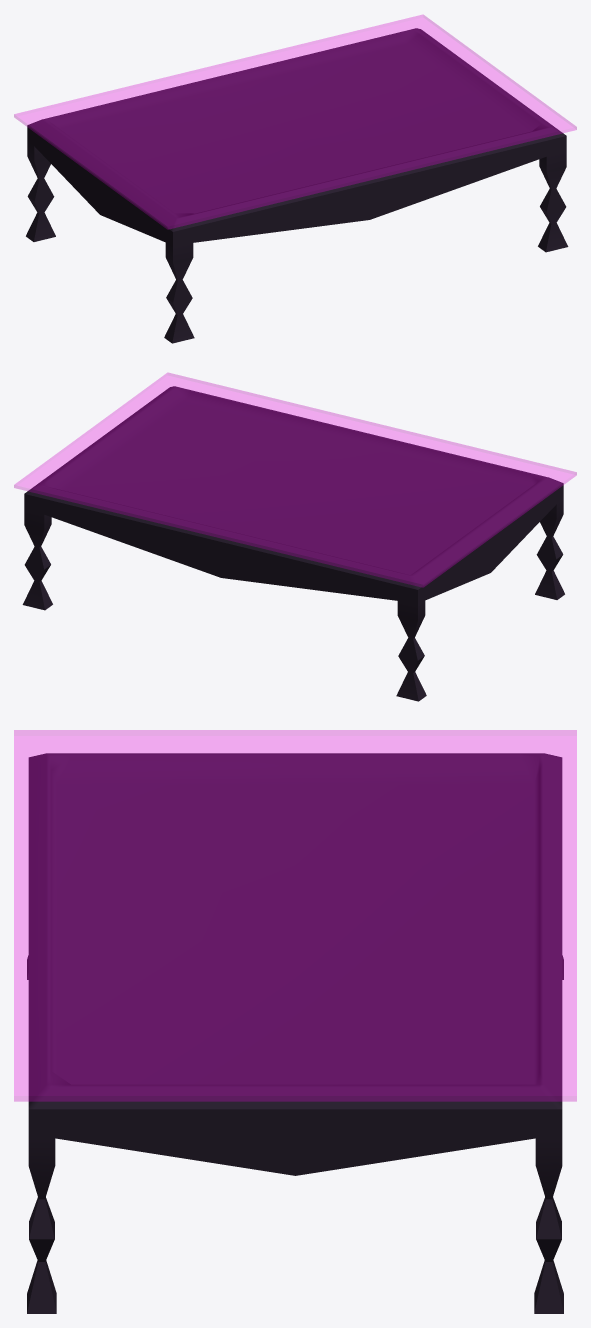
File: MESA CENRTO CUADRADA.fbx
3 views of the same model, one above another, from view 1: azimuth 30°, elevation 25°; view 2: azimuth 150°, elevation 25°; view 3: azimuth 270°, elevation 25° (orthographic). The views are drawn at different scales.
Parts seen in each view (by area): view 1: MESA, VIDRIO; view 2: MESA, VIDRIO; view 3: MESA, VIDRIO.
Boxes of the visible parts, x1,y1,x2,y2 form: MESA: (26, 28, 568, 343); VIDRIO: (14, 15, 576, 229); MESA: (22, 386, 564, 701); VIDRIO: (14, 373, 576, 587); MESA: (27, 753, 563, 1313); VIDRIO: (14, 730, 576, 1101).
Bounding box in the file's own units: 360 × 102 × 234.
